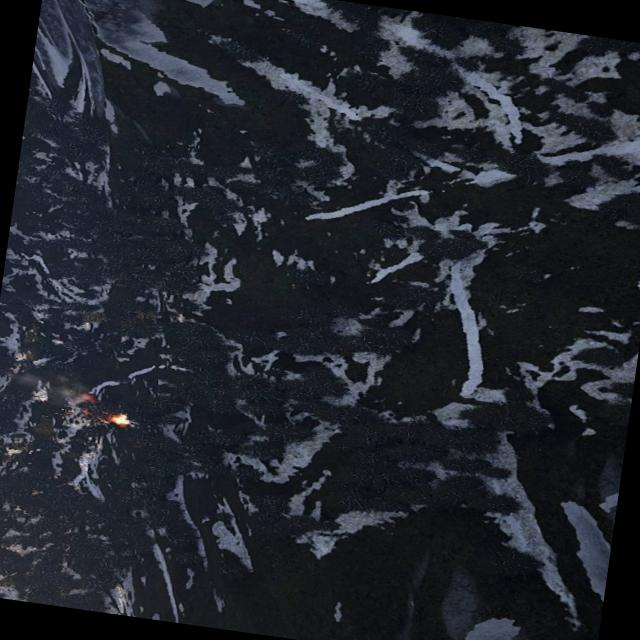fire: (112, 414, 130, 426)
smoke: (11, 359, 108, 419)
